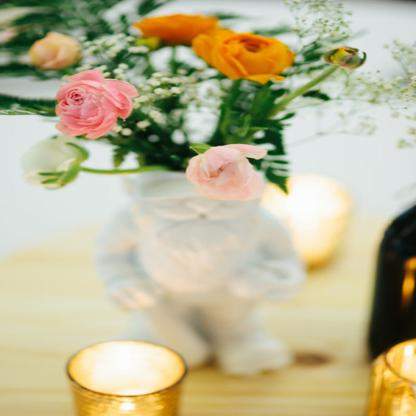vase: (92, 167, 309, 375)
